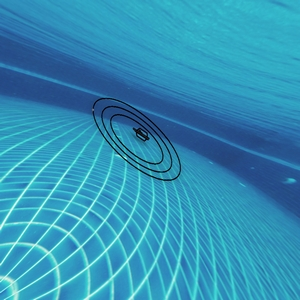circle: (89, 76, 192, 215)
submarine: (138, 125, 148, 141)
